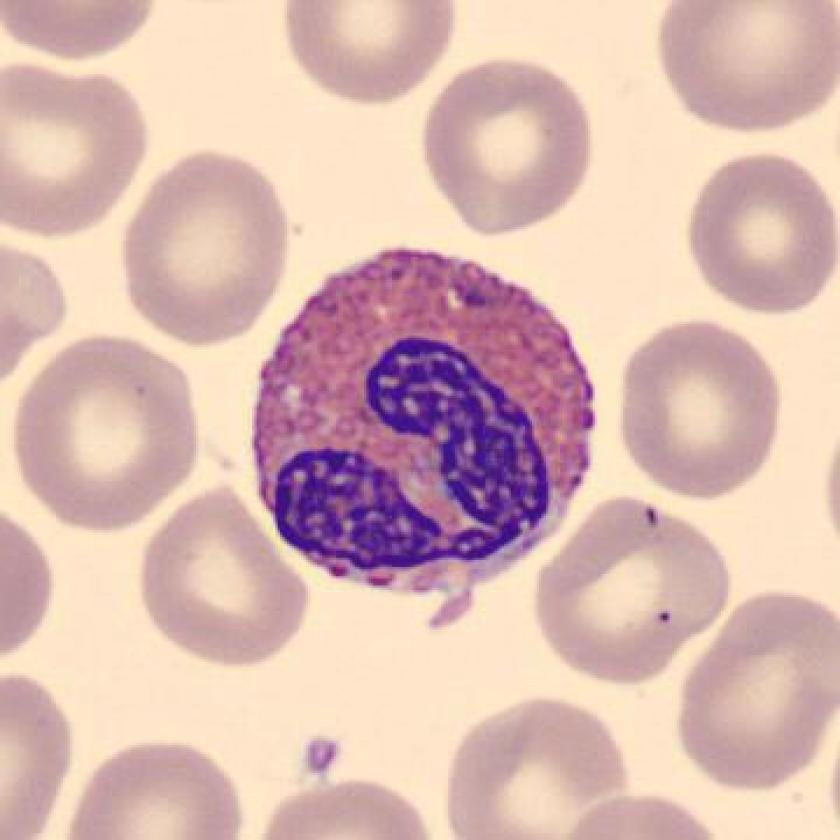eosinophil: (232, 242, 608, 614)
